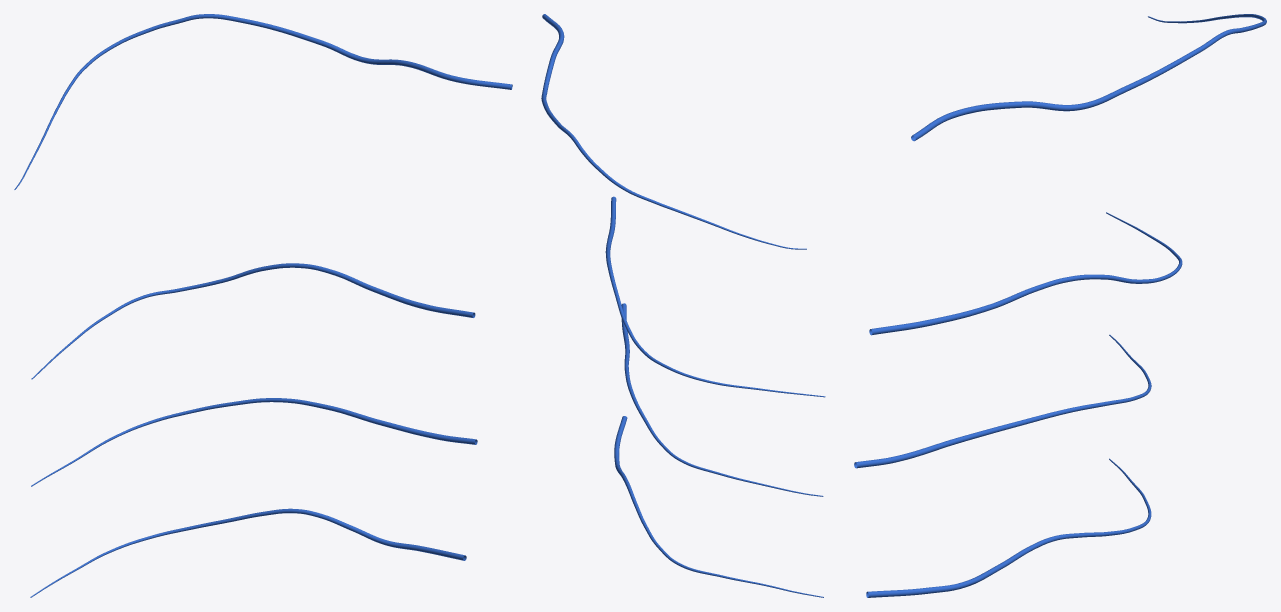
The model's file is circulatorio-lumbar-veins-r.glb.
3 renders of one model, left to right at view 1: azimuth 30°, elevation 25°; view 2: azimuth 150°, elevation 25°; view 3: azimuth 270°, elevation 25°, orthographic. The views are drawn at different scales.
Parts seen in each view (by area): view 1: Lumbar veins.r; view 2: Lumbar veins.r; view 3: Lumbar veins.r.
Boxes of the visible parts, x1,y1,x2,y2 form: Lumbar veins.r: (14, 14, 512, 597); Lumbar veins.r: (541, 14, 825, 597); Lumbar veins.r: (854, 14, 1266, 597).
Size of the model in its own units: 0.08 by 0.0948 by 0.0643.
